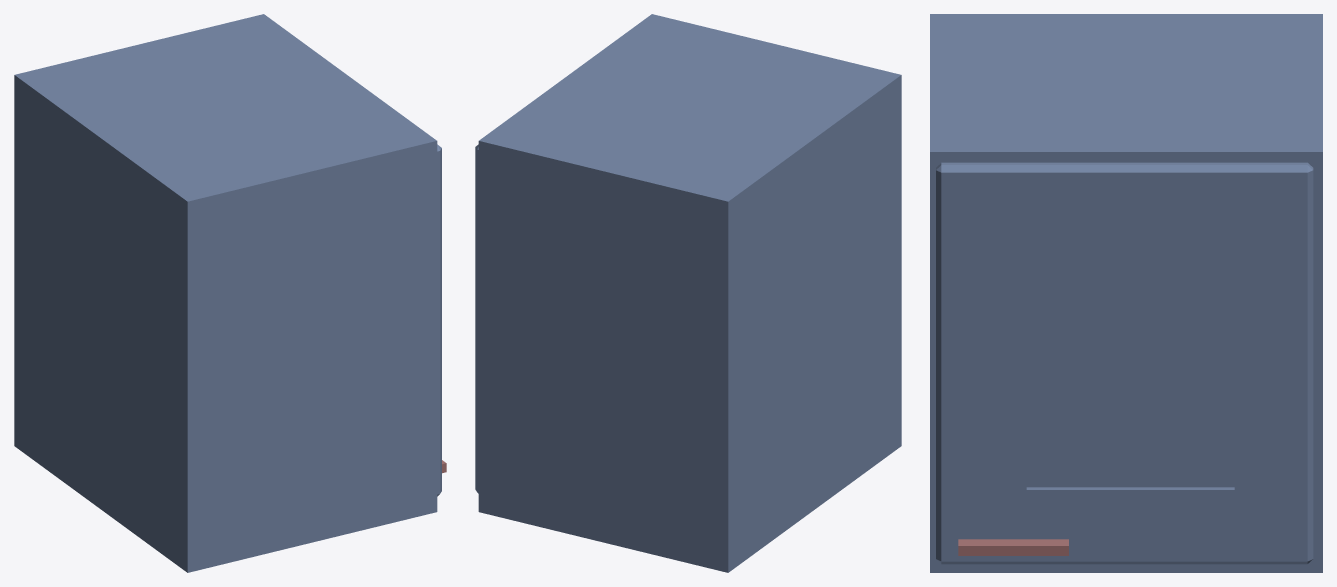
The model's file is CupBoard_OneDoor.fbx.
The picture shows the model from 3 angles, left to right: view 1: azimuth 30°, elevation 25°; view 2: azimuth 150°, elevation 25°; view 3: azimuth 270°, elevation 25°; orthographic projection. The views are drawn at different scales.
Parts seen in each view (by area): view 1: pasted__pCube1, pasted__pasted__pasted__pasted__pasted__pasted__pasted__past; view 2: pasted__pCube1, pasted__pasted__pasted__pasted__pasted__pasted__pasted__past; view 3: pasted__pasted__pasted__pasted__pasted__pasted__pasted__past (×2), pasted__pCube1.
Part boxes in pixels (<box>): pasted__pCube1: <box>14,14,437,572</box>; pasted__pasted__pasted__pasted__pasted__pasted__pasted__past: <box>437,144,441,496</box>; pasted__pCube1: <box>478,14,901,572</box>; pasted__pasted__pasted__pasted__pasted__pasted__pasted__past: <box>475,144,478,493</box>; pasted__pasted__pasted__pasted__pasted__pasted__pasted__past (×2): <box>936,162,1313,564</box>; pasted__pCube1: <box>930,14,1322,572</box>.
Bounding box in the file's own units: 3.12 × 4.08 × 3.45.
